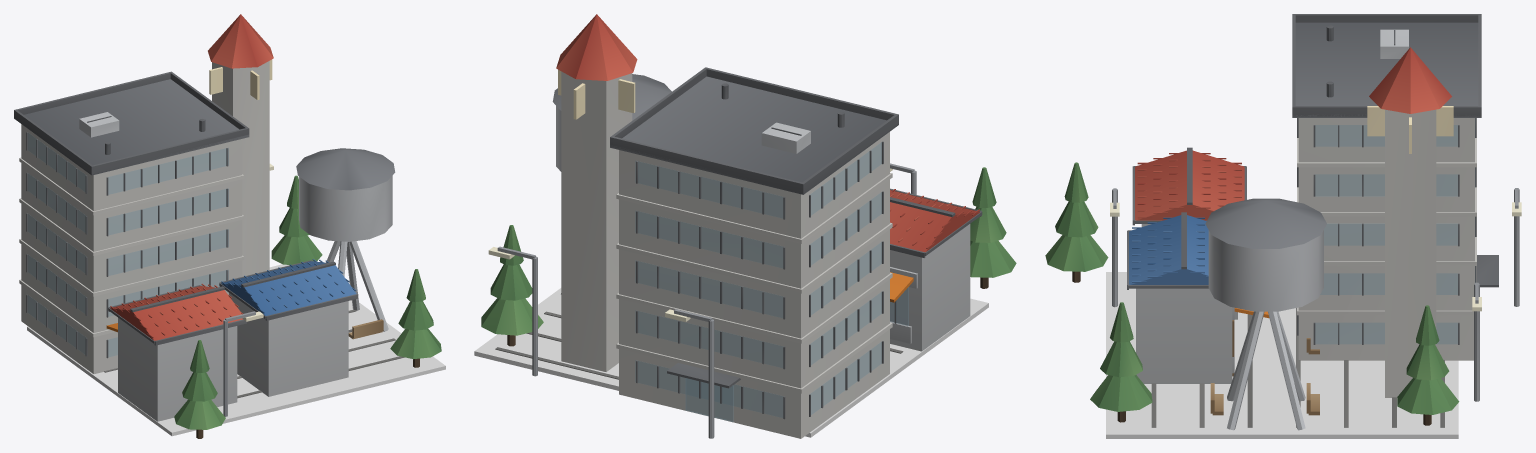
File: Civic_P3.fbx
3 views of the same model, side by side, from view 1: azimuth 30°, elevation 25°; view 2: azimuth 150°, elevation 25°; view 3: azimuth 270°, elevation 25° (orthographic). The views are drawn at different scales.
Parts seen in each view (by area): view 1: Civic.Hall, Civic.Shop1, Civic.Shop0, Civic.WaterTower, Civic.Tower, Civic.Plaza, Civic.Tree2, Civic.Tree1, Civic.Tree0, Civic.Lamp0, Civic.Paving, Civic.Benches; view 2: Civic.Hall, Civic.Tower, Civic.Shop0, Civic.Plaza, Civic.Tree0, Civic.Tree2, Civic.WaterTower, Civic.Lamp2, Civic.Lamp1, Civic.Paving; view 3: Civic.Hall, Civic.Plaza, Civic.Tower, Civic.WaterTower, Civic.Shop1, Civic.Shop0, Civic.Tree2, Civic.Tree0, Civic.Tree1, Civic.Paving, Civic.Benches, Civic.Lamp1 (+2 smaller).
Boxes of the visible parts, x1,y1,x2,y2 form: Civic.Hall: (14, 71, 249, 373); Civic.Shop1: (219, 259, 358, 396); Civic.Shop0: (106, 283, 246, 421); Civic.WaterTower: (296, 148, 395, 331); Civic.Tower: (208, 14, 273, 276); Civic.Plaza: (27, 264, 445, 436); Civic.Tree2: (174, 340, 225, 438); Civic.Tree1: (390, 269, 441, 367); Civic.Tree0: (271, 175, 322, 264); Civic.Lamp0: (223, 311, 263, 416); Civic.Paving: (104, 309, 404, 398); Civic.Benches: (348, 319, 383, 339); Civic.Hall: (610, 67, 898, 438); Civic.Tower: (556, 14, 637, 371); Civic.Shop0: (890, 188, 982, 351); Civic.Plaza: (474, 288, 988, 437); Civic.Tree0: (481, 225, 543, 346); Civic.Tree2: (970, 167, 1016, 288); Civic.WaterTower: (552, 74, 671, 294); Civic.Lamp2: (665, 309, 714, 438); Civic.Lamp1: (488, 246, 537, 376); Civic.Paving: (495, 311, 903, 379); Civic.Hall: (1292, 14, 1498, 360); Civic.Plaza: (1106, 272, 1458, 438); Civic.Tower: (1367, 47, 1453, 397); Civic.WaterTower: (1205, 198, 1326, 430); Civic.Shop1: (1127, 212, 1269, 383); Civic.Shop0: (1132, 147, 1246, 319); Civic.Tree2: (1045, 162, 1108, 282); Civic.Tree0: (1397, 305, 1459, 425); Civic.Tree1: (1090, 302, 1152, 422); Civic.Paving: (1151, 308, 1444, 427); Civic.Benches: (1210, 338, 1319, 415); Civic.Lamp1: (1472, 282, 1481, 401).
Size of the model in its own units: 2532 by 2371 by 2970.
